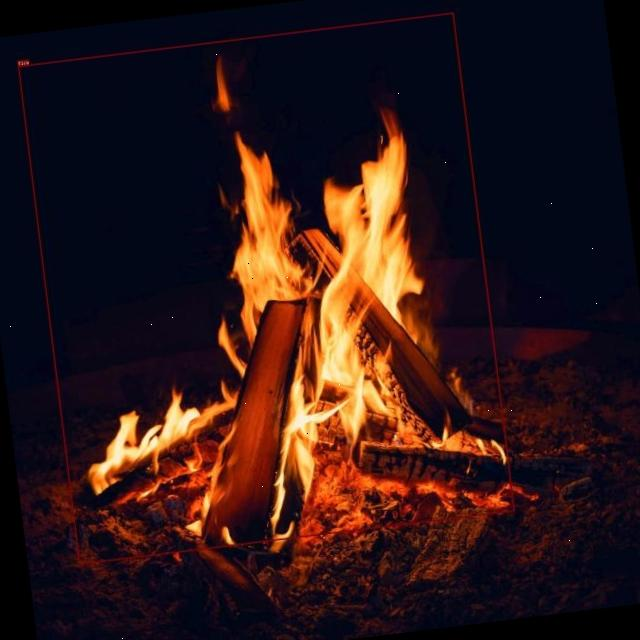fire: (18, 12, 514, 564)
